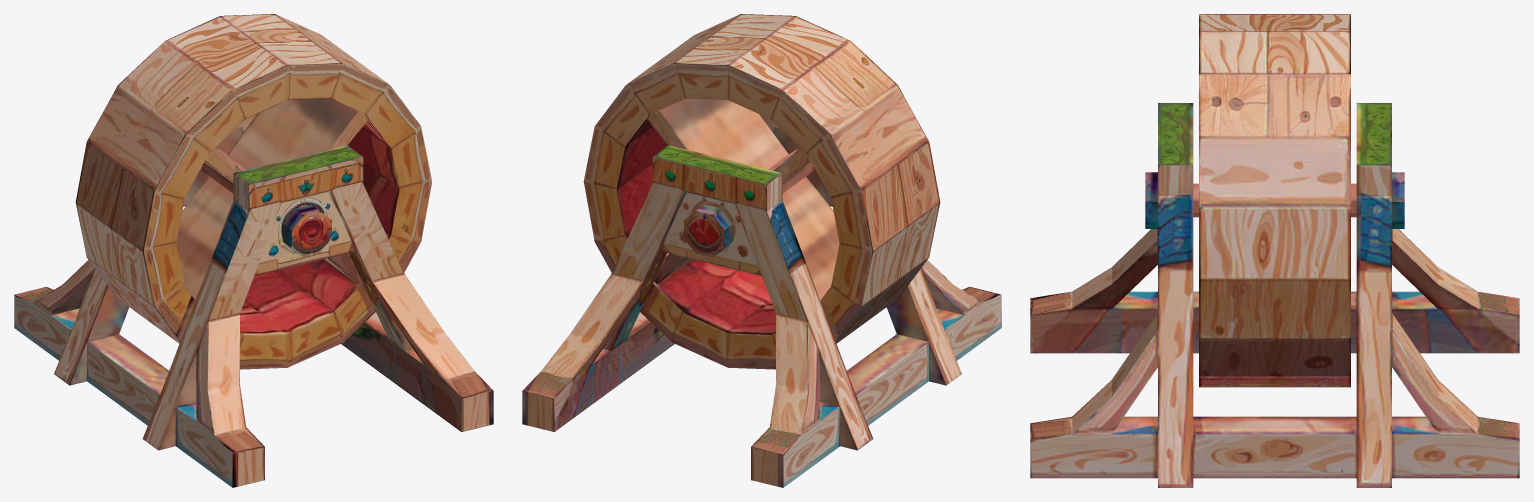
Rendered from koleso_rydnik_1208054659.obj.
3 views of the same model, side by side, from view 1: azimuth 30°, elevation 25°; view 2: azimuth 150°, elevation 25°; view 3: azimuth 270°, elevation 25° (orthographic). The views are drawn at different scales.
Parts seen in each view (by area): view 1: Mesh_0; view 2: Mesh_0; view 3: Mesh_0.
Boxes of the visible parts, x1=… form: Mesh_0: x1=14, y1=14, x2=493, y2=487; Mesh_0: x1=522, y1=14, x2=1001, y2=487; Mesh_0: x1=1030, y1=14, x2=1519, y2=487.
Size of the model in its own units: 0.7821 by 0.8475 by 1.
Materials: 1 (1 with a texture image).
